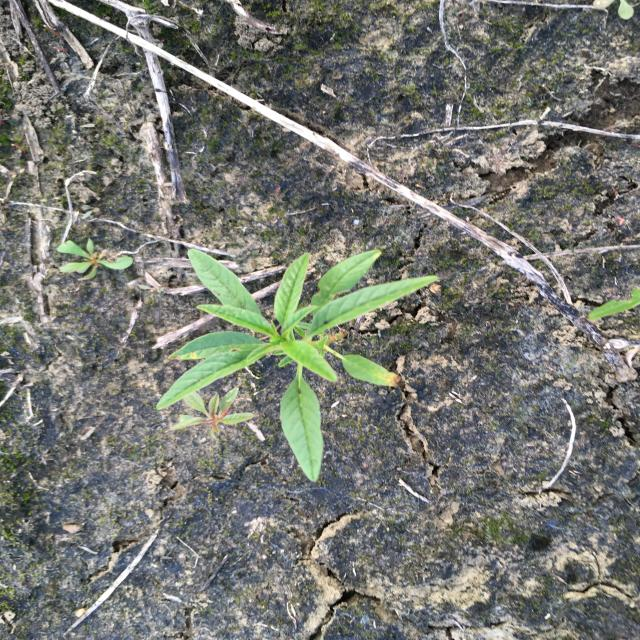Waterhemp: (154, 248, 444, 487)
